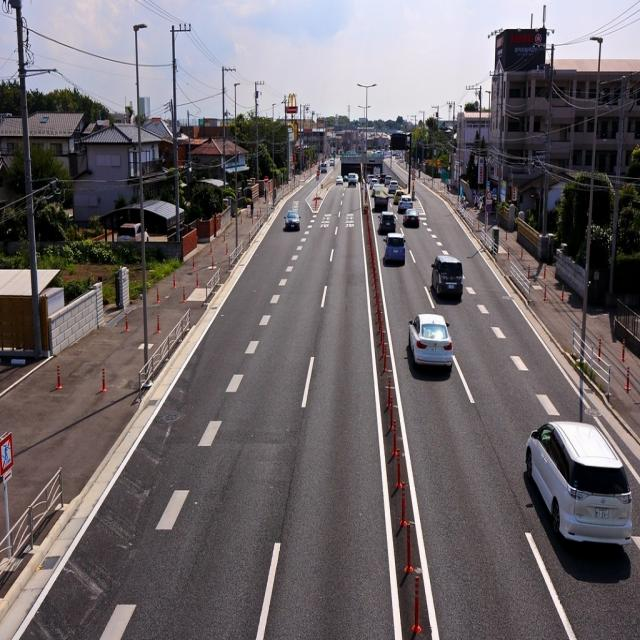Carro Azul Escuro: (380, 230, 410, 272)
Carro Branco: (518, 411, 636, 555), (405, 309, 455, 374)
Carro Preto: (426, 255, 465, 302), (281, 206, 302, 241)
